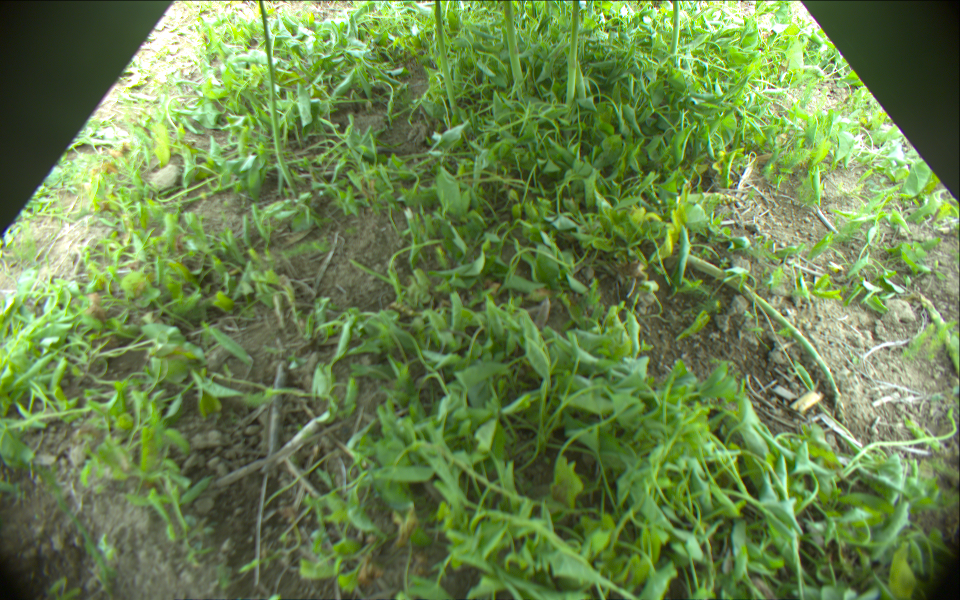aspa: (685, 254, 843, 410), (258, 1, 296, 195), (432, 1, 460, 122), (920, 295, 960, 372), (502, 1, 525, 93), (567, 1, 580, 105), (668, 1, 679, 54)
